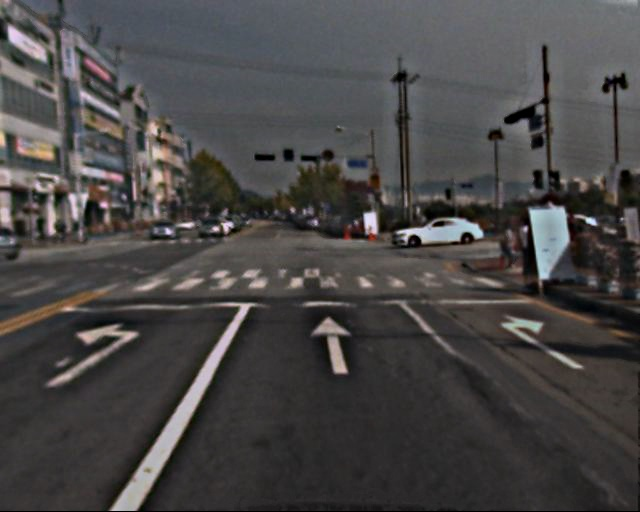person: (512, 216, 537, 277), (494, 221, 519, 274)
